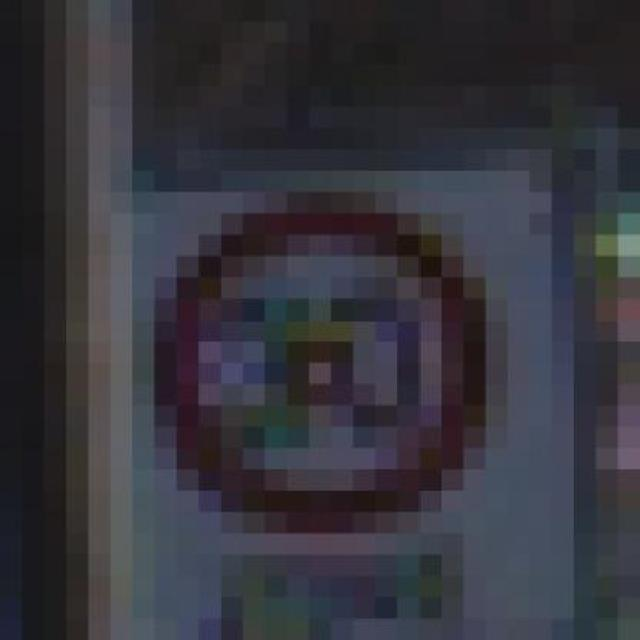Speed Limit 30 KMPh: (110, 150, 508, 556)
